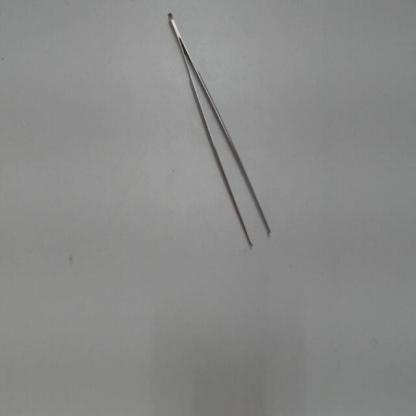Gillies Toothed Dissector: (158, 4, 282, 262)
